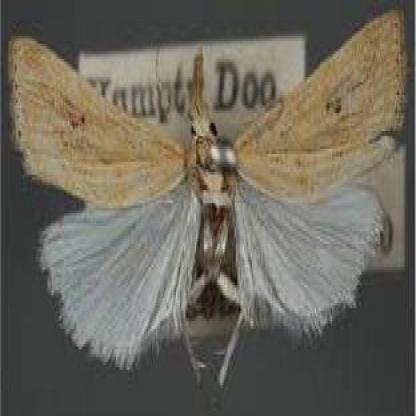stem-borer: (7, 7, 408, 392)
